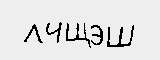Л: (24, 23, 40, 46)
Ч: (47, 23, 64, 44)
Ш: (105, 22, 134, 48)
Щ: (64, 19, 91, 46)
Э: (89, 24, 104, 47)
